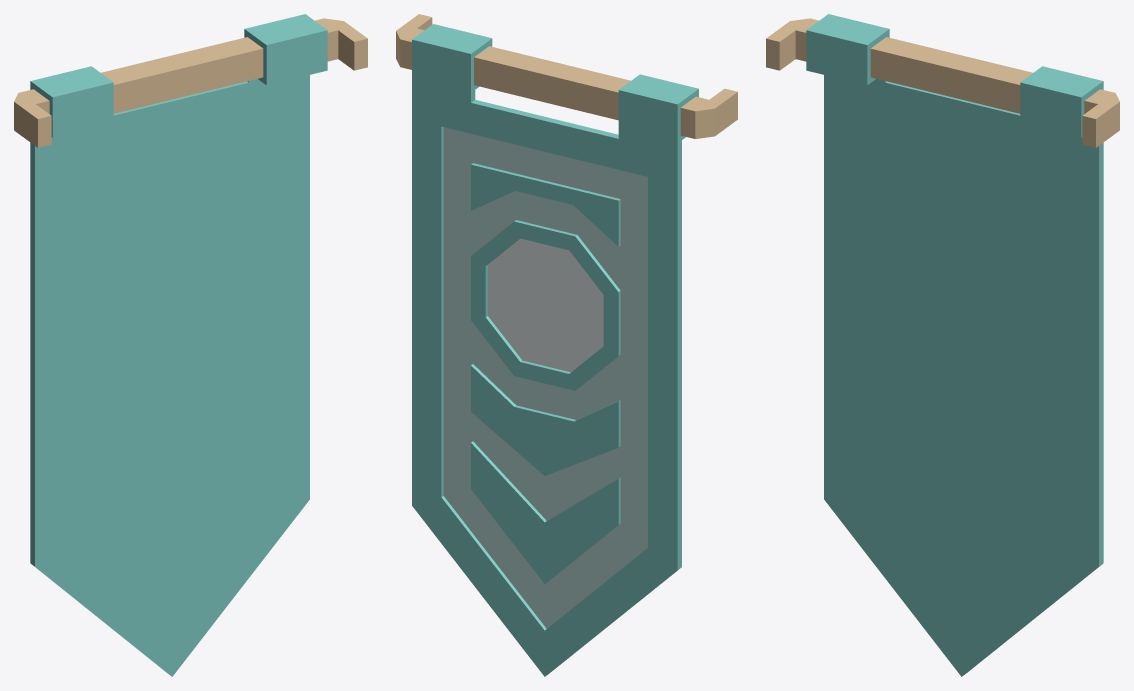
Rendered from prop_flag_sun.glb.
The picture shows the model from 3 angles, left to right: view 1: azimuth 30°, elevation 25°; view 2: azimuth 150°, elevation 25°; view 3: azimuth 330°, elevation 25°; orthographic projection. The views are drawn at different scales.
Parts seen in each view (by area): view 1: object2, object1; view 2: object2, object1; view 3: object2, object1.
Boxes of the visible parts, bbox=[...] form: object2: bbox=[30, 14, 327, 676]; object1: bbox=[14, 18, 367, 147]; object2: bbox=[412, 24, 698, 676]; object1: bbox=[396, 14, 737, 138]; object2: bbox=[806, 14, 1103, 676]; object1: bbox=[766, 18, 1119, 147].
Size of the model in its own units: 0.54 by 0.979 by 0.099.
